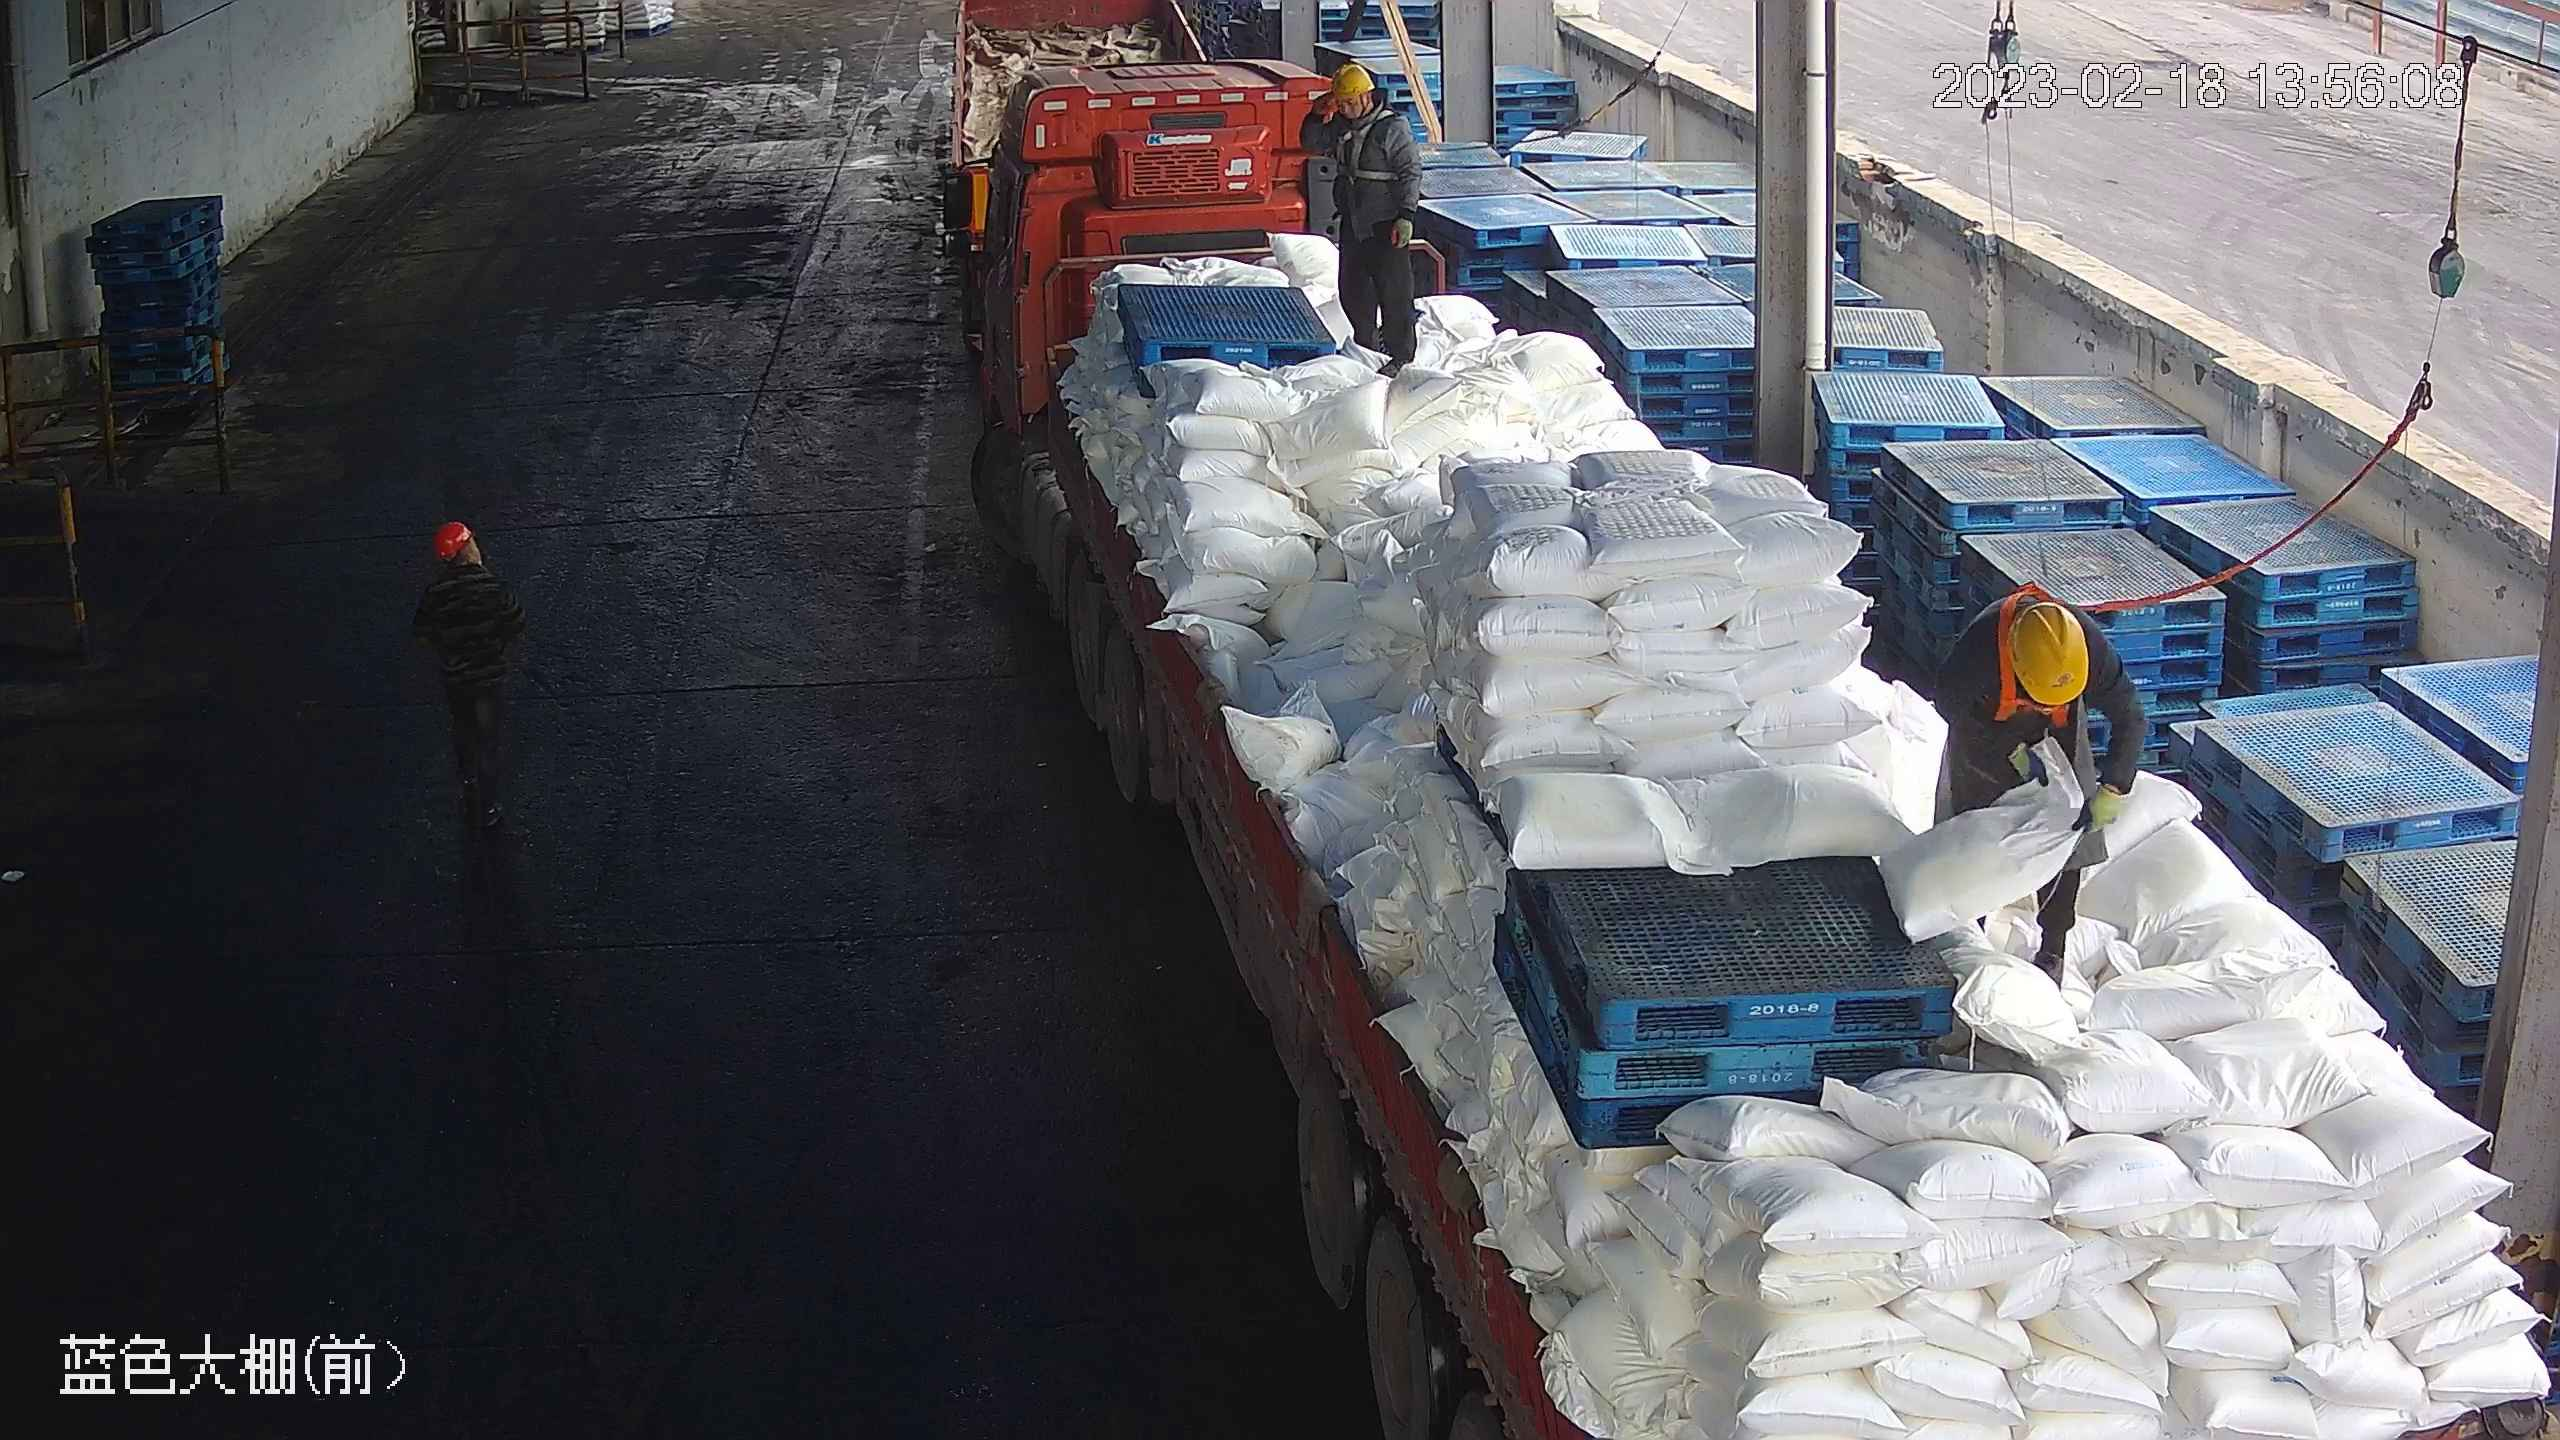belt: (1997, 629, 2089, 735), (1333, 112, 1400, 184)
head: (1958, 590, 2128, 736), (1326, 60, 1416, 147), (414, 520, 509, 602)
helmet: (1998, 595, 2093, 706), (425, 518, 474, 558), (1329, 61, 1377, 97)
people: (1927, 587, 2147, 979), (1318, 57, 1428, 377), (408, 520, 525, 812)
truck: (948, 51, 2558, 1439)
